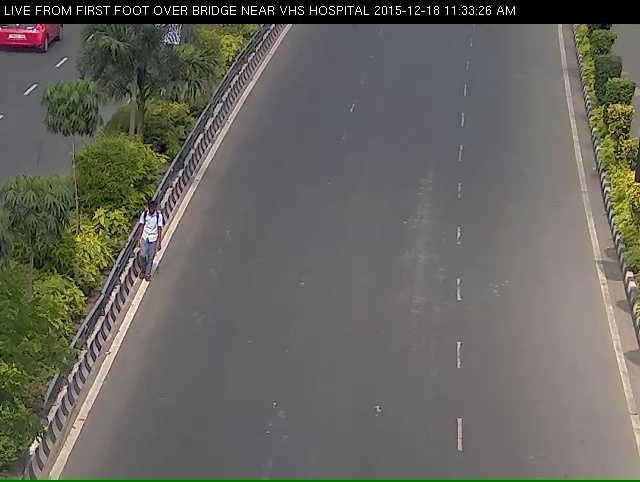Person: (134, 204, 161, 288)
